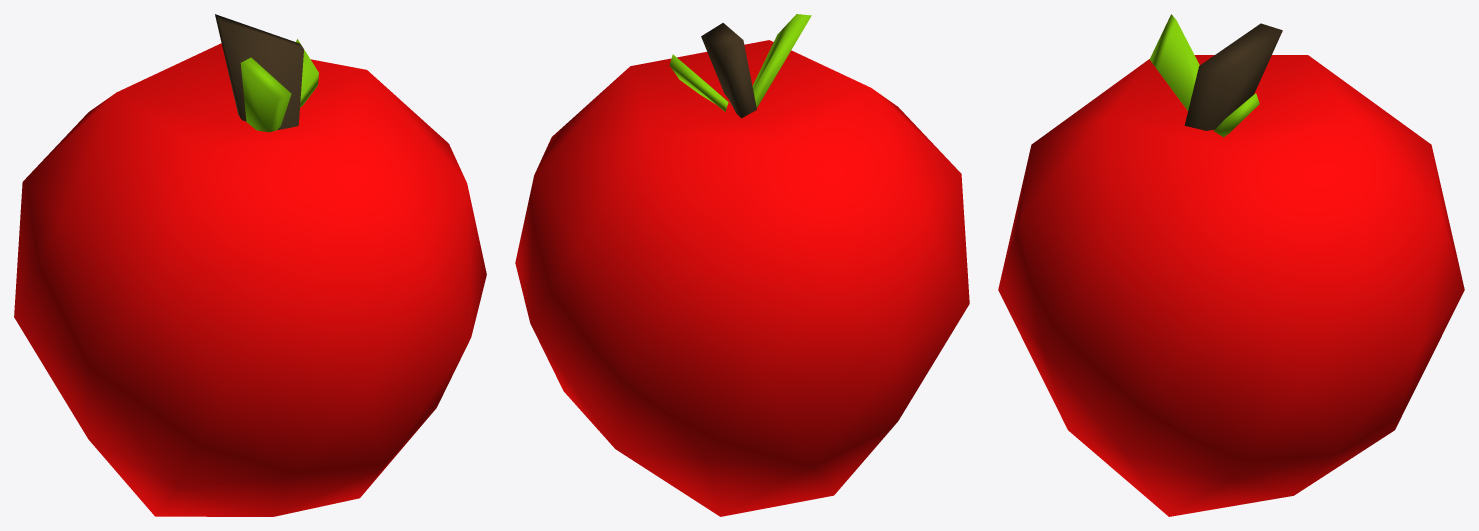
Rendered from Fruit_Apple.fbx.
3 renders of one model, left to right at view 1: azimuth 30°, elevation 25°; view 2: azimuth 150°, elevation 25°; view 3: azimuth 270°, elevation 25°, orthographic. The views are drawn at different scales.
Parts seen in each view (by area): view 1: Fruit_Apple; view 2: Fruit_Apple; view 3: Fruit_Apple.
Boxes of the visible parts, bbox=[...] form: Fruit_Apple: bbox=[14, 14, 486, 516]; Fruit_Apple: bbox=[515, 14, 969, 516]; Fruit_Apple: bbox=[998, 14, 1464, 516].
Bounding box in the file's own units: 10.43 × 11.66 × 10.97.
